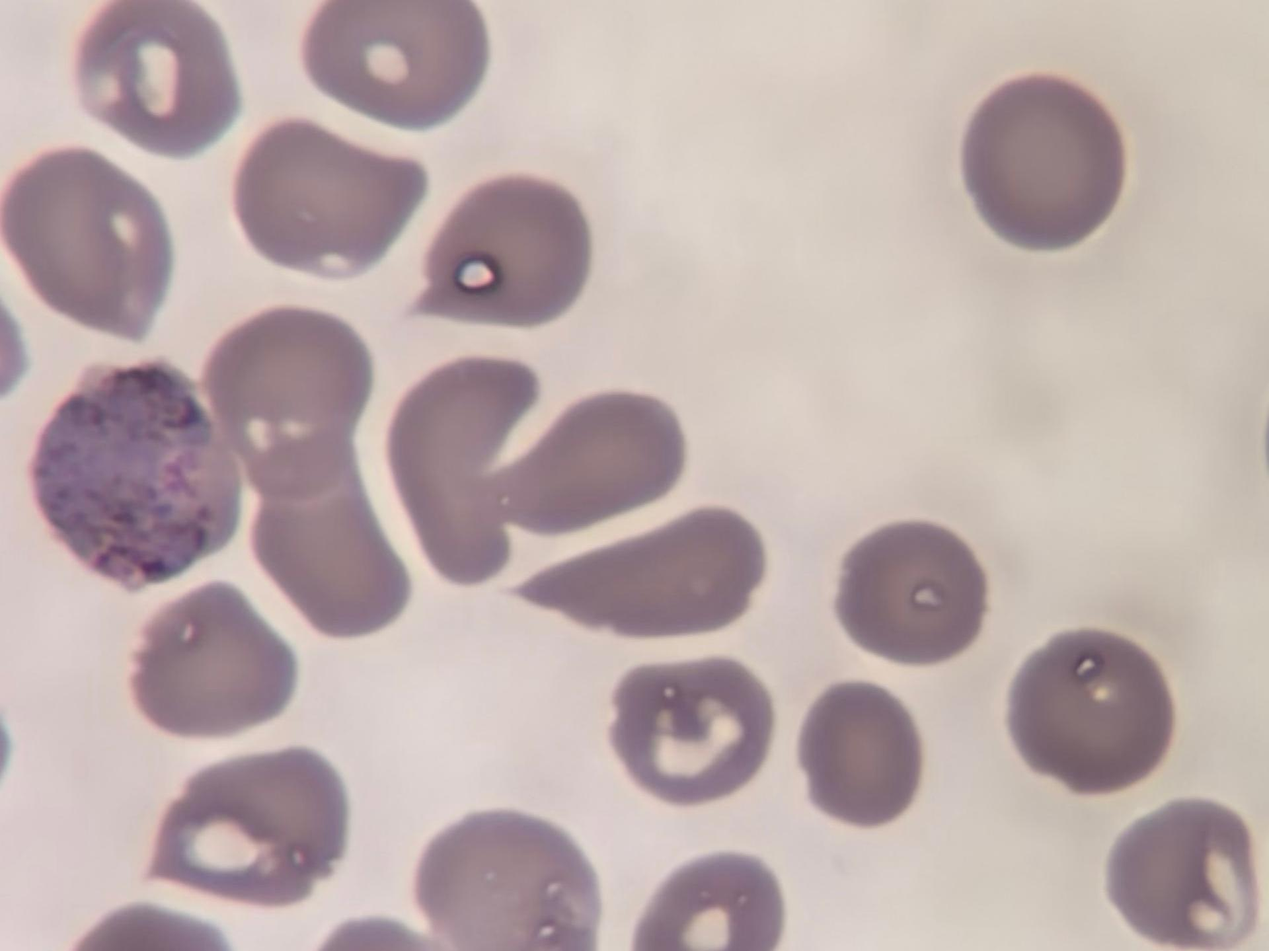Infected: (1031, 362, 1236, 590)
Uninfected: (727, 367, 884, 599), (892, 448, 1064, 642), (924, 40, 1122, 205), (507, 311, 750, 442), (1099, 613, 1269, 798), (858, 314, 1017, 510), (844, 668, 1032, 826), (144, 698, 309, 874), (583, 415, 779, 558), (681, 622, 866, 773), (1030, 793, 1195, 951), (99, 156, 258, 319), (972, 213, 1135, 368), (666, 0, 849, 136), (780, 818, 964, 951), (497, 141, 654, 296), (7, 0, 161, 151), (284, 291, 430, 428), (347, 124, 471, 269), (482, 0, 636, 95)
